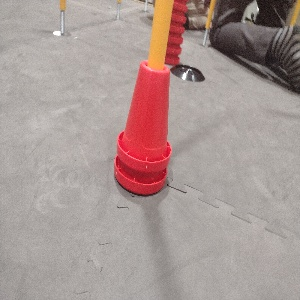Red_2: (113, 57, 172, 194)
